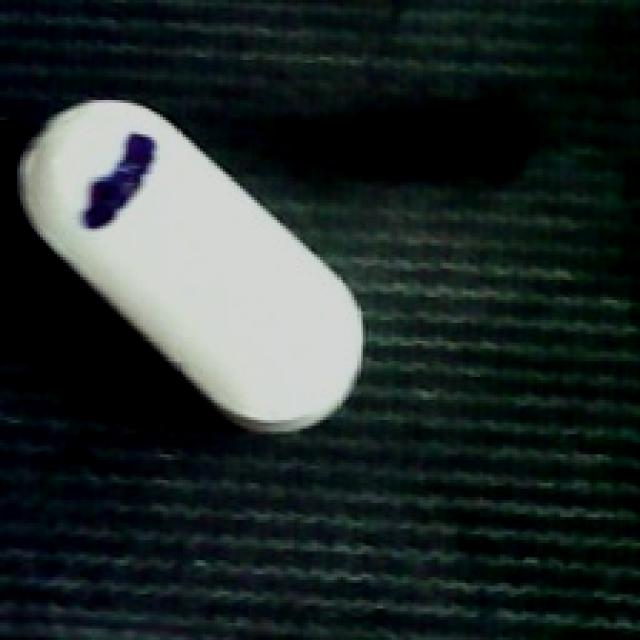defected: (9, 96, 372, 438)
